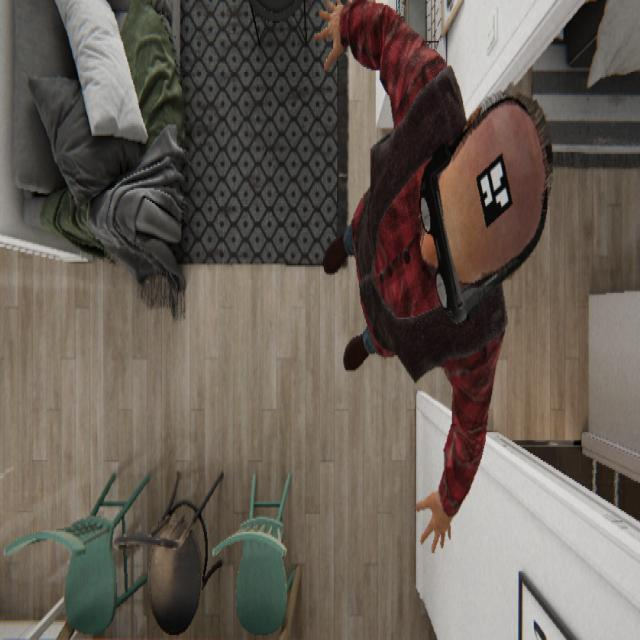Human: (313, 0, 552, 553)
